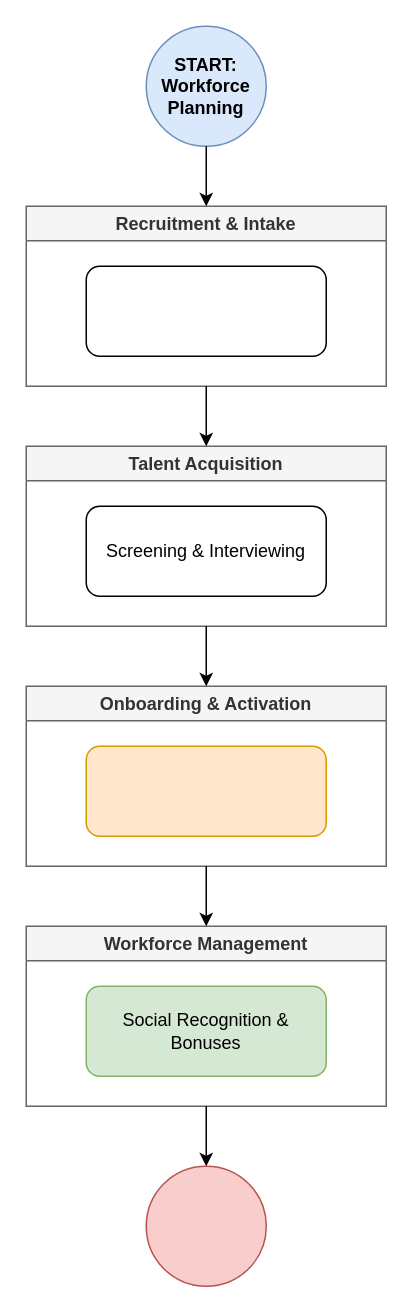
Some shapes in this 413 by 1313 pixel diagram are drawn without their labels. The box of each missing label's shape, as (x1, y1, x2, y2) in pixels:
Data Synchronized: (145, 1165, 266, 1286)
Job Postings / Public Careers: (85, 265, 326, 356)
Sync to HR4 (Activated Hires): (85, 745, 326, 836)
